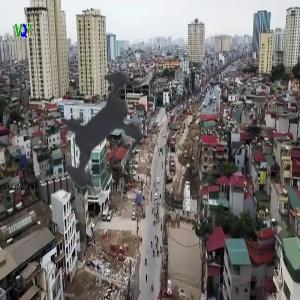drone: (1, 20, 215, 234)
